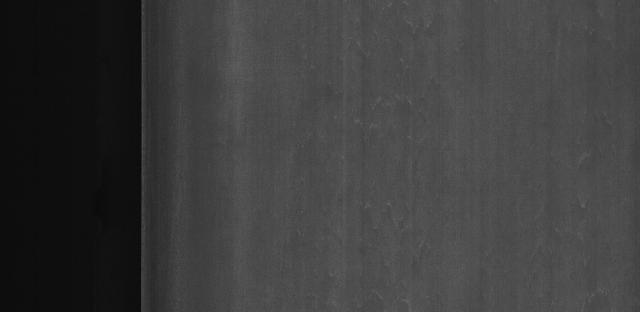silk_spot: (339, 48, 442, 186)
